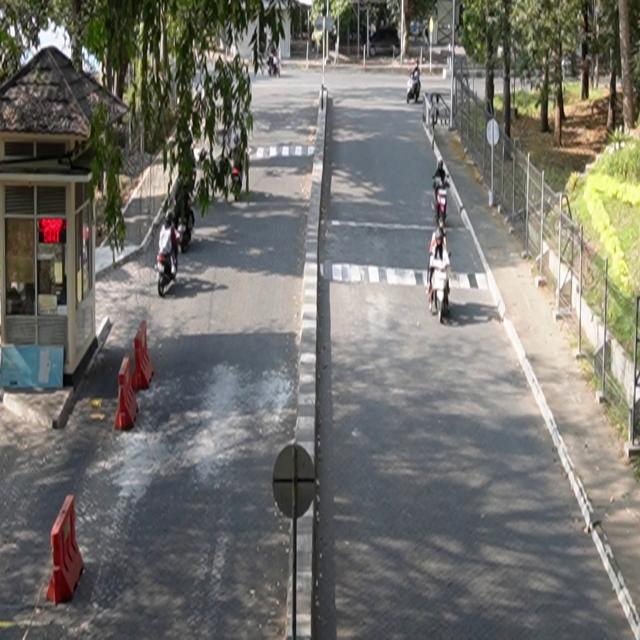car: (366, 27, 401, 58)
